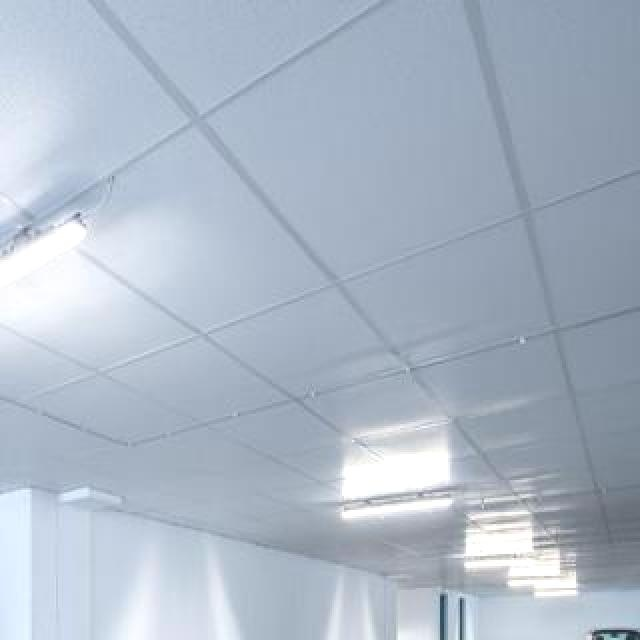fluorescent tube: (0, 204, 112, 358), (313, 491, 469, 525), (447, 547, 544, 578)
